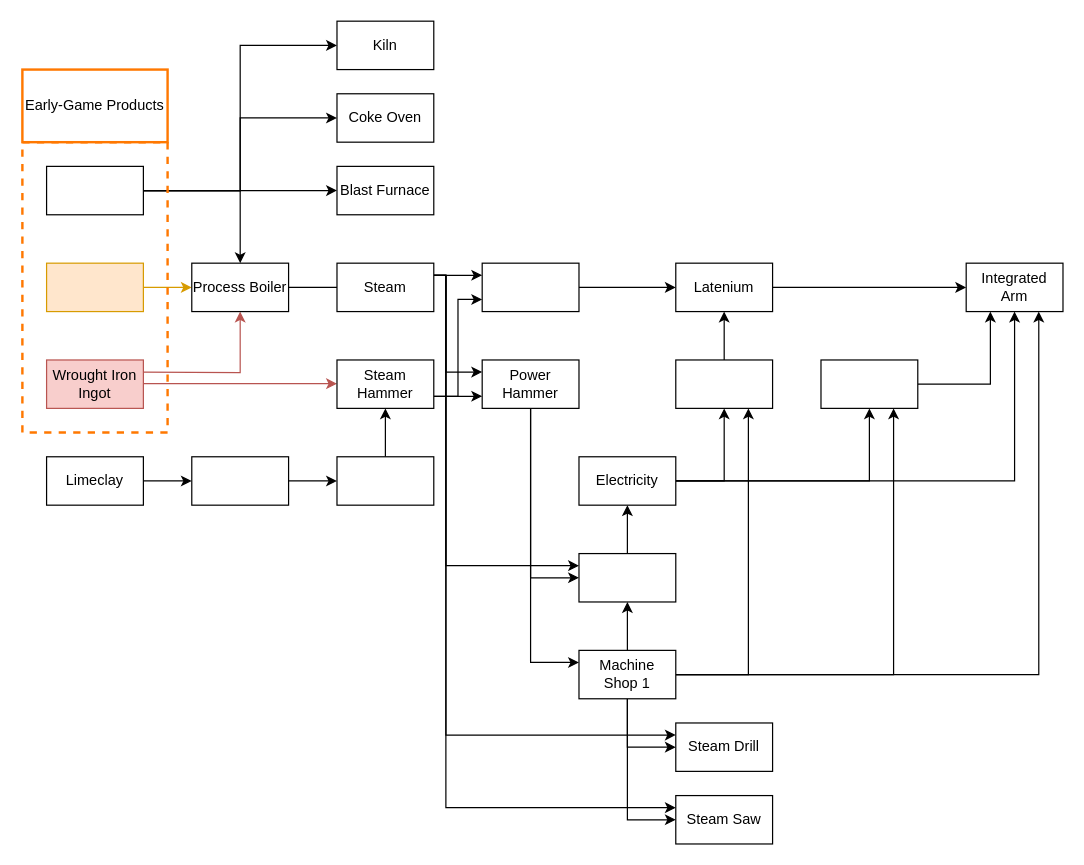
Some shapes in this 1084 by 865 pixel diagram are drawn without their labels. The shapes that lost their labels are listed below. From the top down, each one's box as (x1, y1, x2, y2) in pixels, then its label:
(45, 165, 143, 215): Fireclay Bricks
(45, 262, 143, 312): Copper Ingot
(481, 262, 579, 312): Stamp Mill
(675, 359, 773, 408): Vanning Concentrator
(820, 359, 918, 408): Drawing Press
(191, 456, 289, 505): Cement
(336, 456, 434, 505): Concrete
(578, 552, 676, 602): Stationary Steam Engine
